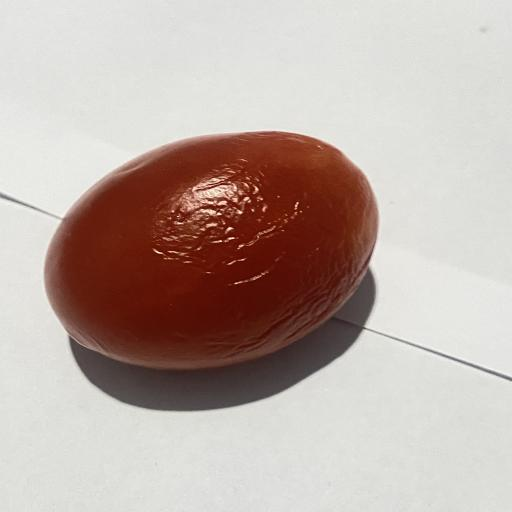spoiled: (45, 132, 378, 370)
